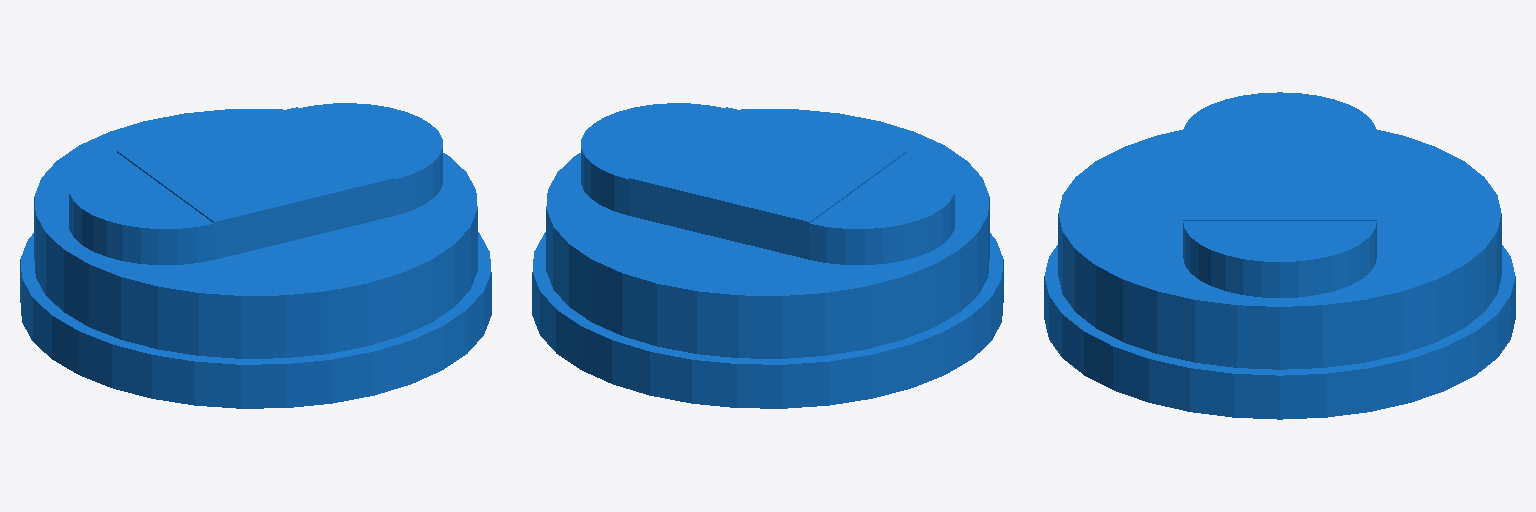
URDF robot description (multiple_visuals_robot):
<?xml version="1.0"?>
<robot name="multiple_visuals_robot">

    <!-- 统一材质 -->
    <material name="blue">
        <color rgba="0.15 0.55 0.90 1.0"/>
    </material>

    <link name="base_link">
        <!-- 底部防护边缘 -->
        <visual>
            <origin xyz="0 0 0.10"/>
            <geometry>
                <cylinder radius="0.34" length="0.07"/>
            </geometry>
            <material name="blue"/>
        </visual>

        <!-- 圆形车身主体 -->
        <visual>
            <origin xyz="0 0 0.17"/>
            <geometry>
                <cylinder radius="0.32" length="0.13"/>
            </geometry>
            <material name="blue"/>
        </visual>

        <!-- 顶部外壳：中央部分 -->
        <visual>
            <origin xyz="0 0 0.26"/>
            <geometry>
                <box size="0.30 0.28 0.07"/>
            </geometry>
            <material name="blue"/>
        </visual>

        <!-- 顶部外壳：前端圆弧 -->
        <visual>
            <origin xyz="0.15 0 0.26"/>
            <geometry>
                <cylinder radius="0.14" length="0.065"/>
            </geometry>
            <material name="blue"/>
        </visual>

        <!-- 顶部外壳：后端圆弧 -->
        <visual>
            <origin xyz="-0.15 0 0.26"/>
            <geometry>
                <cylinder radius="0.14" length="0.065"/>
            </geometry>
            <material name="blue"/>
        </visual>
    </link>
</robot>

--- Facts derived from the render (not from the file) ---
3 views of the same robot in one strip: view 1: azimuth 30°, elevation 25°; view 2: azimuth 150°, elevation 25°; view 3: azimuth 270°, elevation 25° (orthographic).
Robot: multiple_visuals_robot — 1 links, 0 joints (none); root link base_link; default pose: every joint at zero.
Links seen in each view (by area): view 1: base_link; view 2: base_link; view 3: base_link.
Boxes of the visible links, x1=… form: base_link: x1=20, y1=103, x2=491, y2=408; base_link: x1=532, y1=103, x2=1003, y2=408; base_link: x1=1044, y1=92, x2=1515, y2=419.
Size in the robot's own frame: 0.68 by 0.68 by 0.23 metres.
Geometry: primitives only (box / cylinder / sphere), no mesh files.
